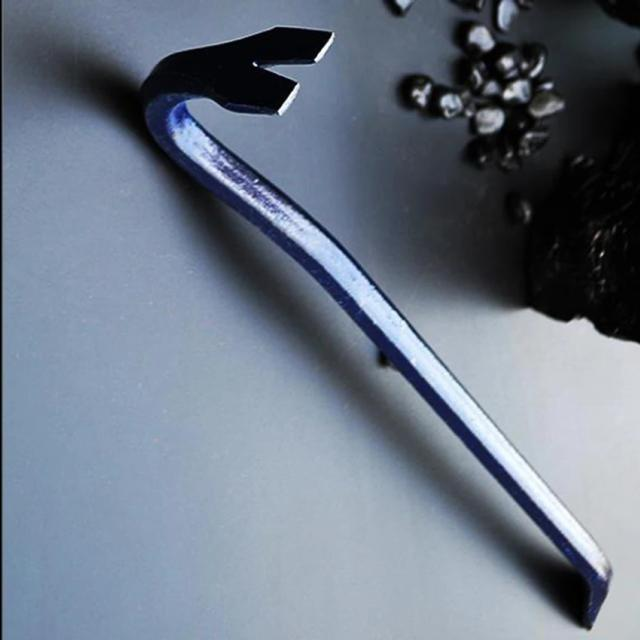Linggis: (135, 27, 615, 631)
